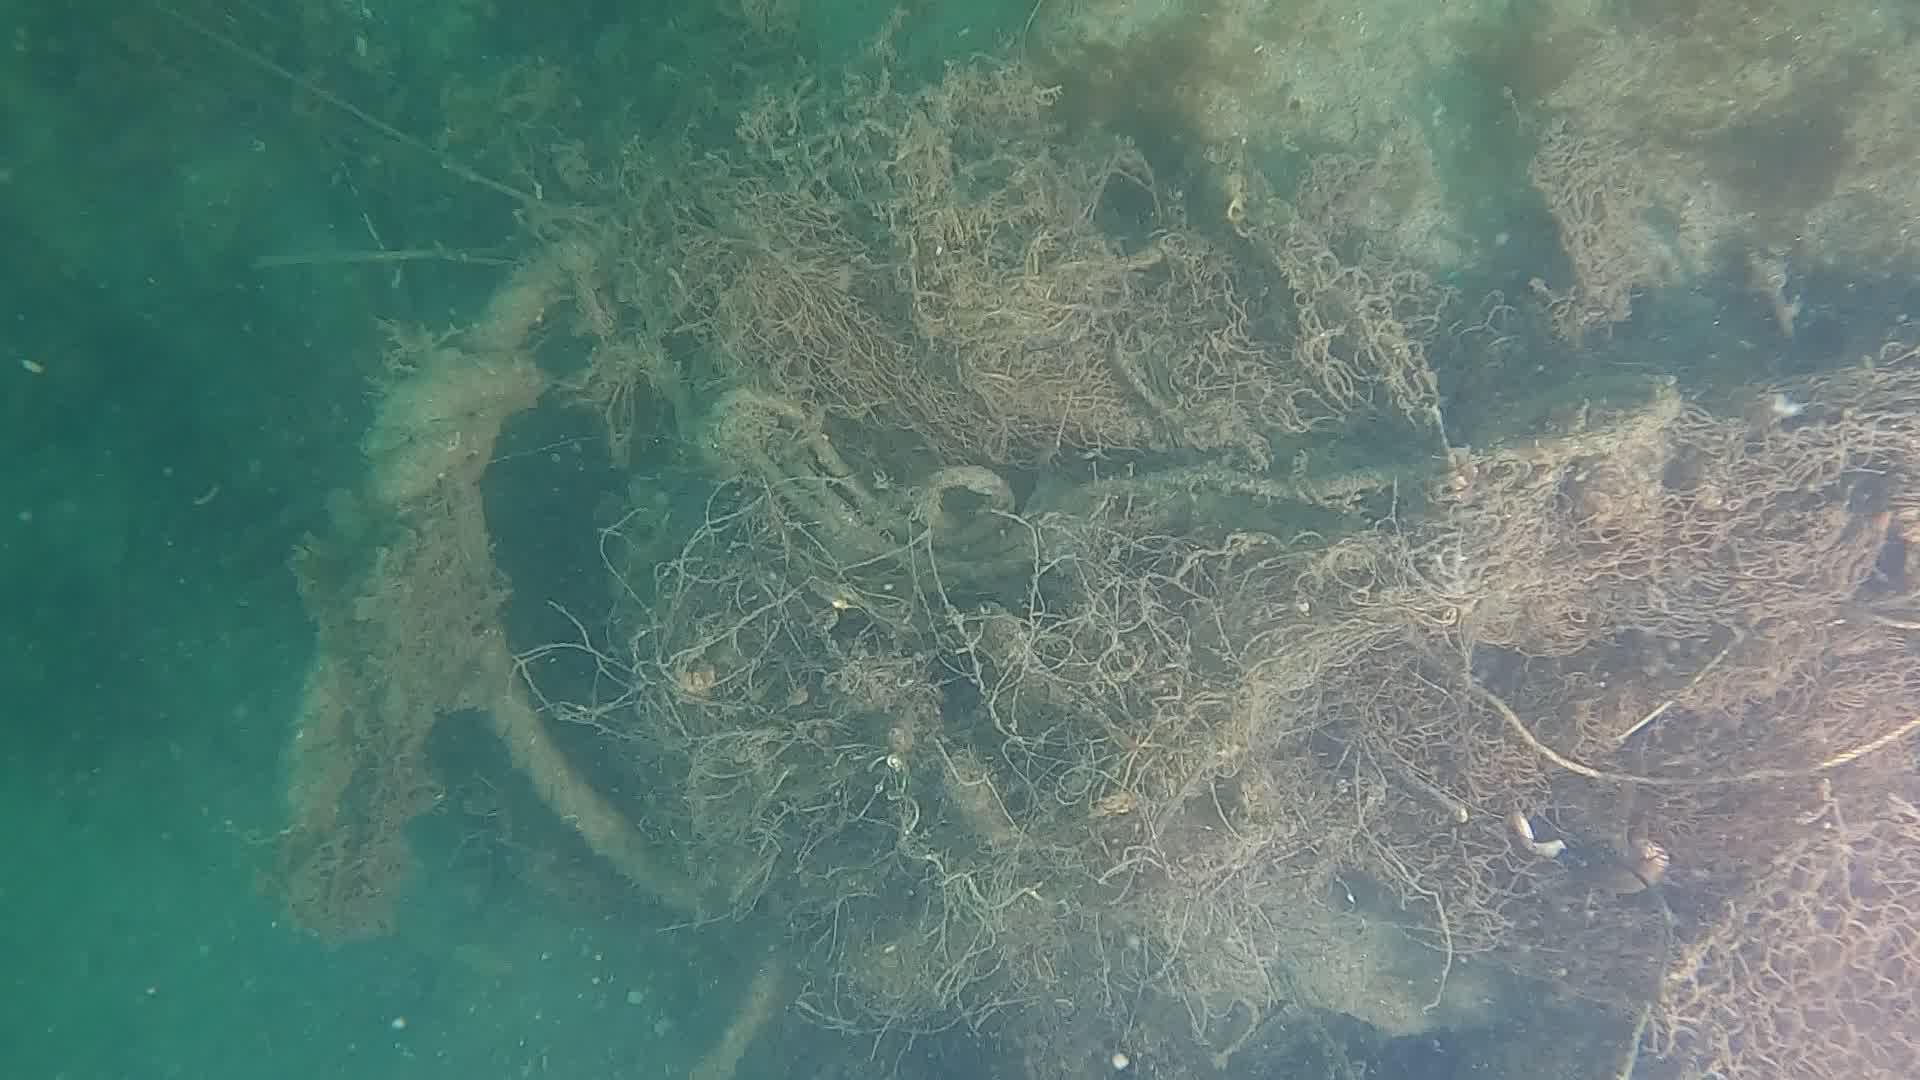bundle of ropes: (363, 244, 698, 915), (703, 386, 1408, 583)
rope: (1476, 683, 1920, 785)
